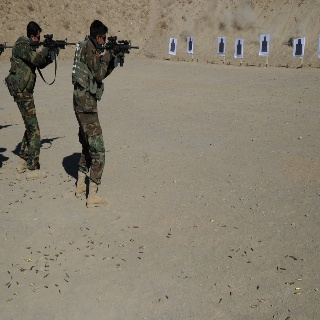rifle: (93, 34, 141, 68), (28, 33, 80, 57)
